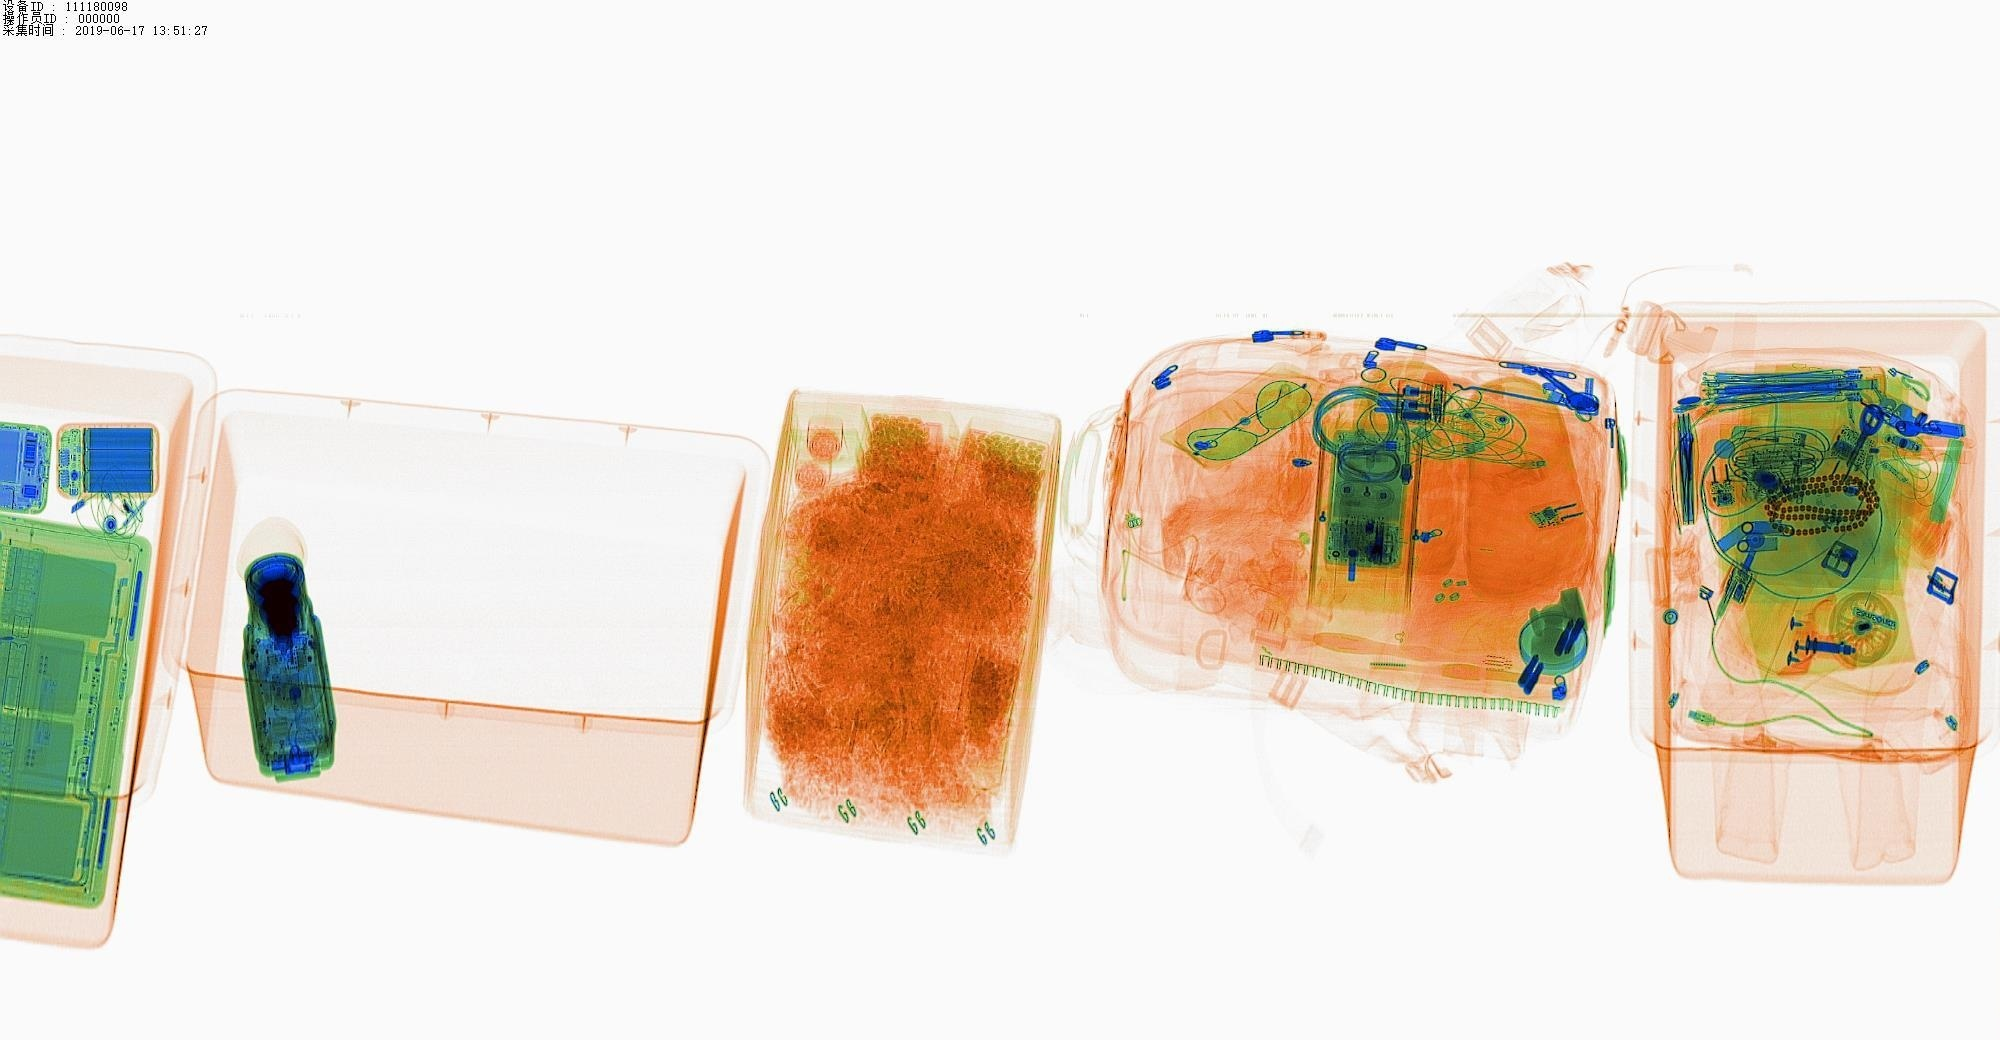NonmetallicFire: (1725, 422, 1820, 463)
